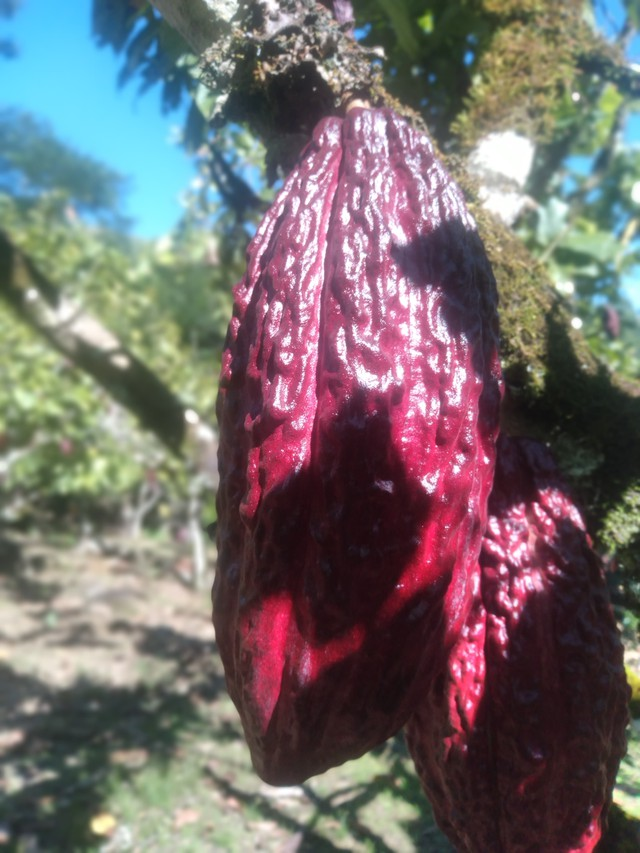Health: (181, 82, 521, 793)
